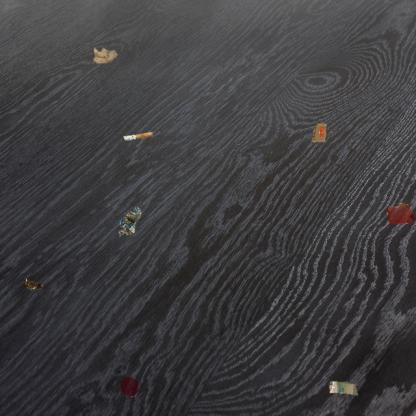dirty: (117, 205, 143, 238), (328, 379, 358, 398), (92, 46, 118, 65), (309, 121, 329, 144), (122, 130, 154, 143), (22, 278, 43, 290)
liquid: (386, 202, 416, 226), (119, 376, 140, 398)
